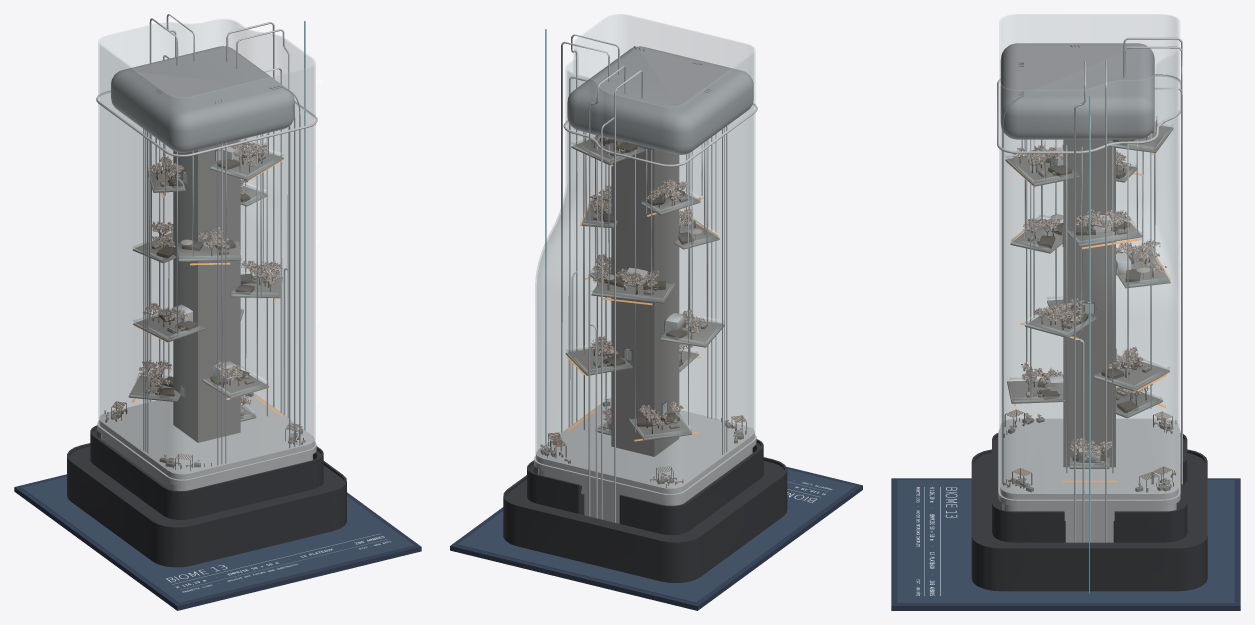
The model's file is projet-02.glb.
3 views of the same model, side by side, from view 1: azimuth 30°, elevation 25°; view 2: azimuth 150°, elevation 25°; view 3: azimuth 270°, elevation 25° (orthographic). The views are drawn at different scales.
Visible parts, largest first — view 1: Cube.002, Cube, Cube.003, Cube.001, socle_liseré, Plateformes, socle_plaque, Suspentes, Cube.005, Garde_corps, Jardinieres, Cube.006 (+12 smaller); view 2: Cube.002, Cube, Cube.003, Cube.001, socle_liseré, Plateformes, socle_plaque, Suspentes, Cube.006, Cube.005, Garde_corps, Jardinieres (+2 smaller); view 3: Cube.002, Cube, socle_liseré, Cube.001, Cube.003, Plateformes, Suspentes, socle_plaque, Cube.005, Garde_corps, Jardinieres, Cube.006 (+8 smaller).
Part boxes in pixels (x1,y1,x2,y2): Cube.002: (96,19,317,479); Cube: (67,393,346,567); Cube.003: (173,140,240,442); Cube.001: (111,46,294,152); socle_liseré: (22,476,413,602); Plateformes: (128,152,283,421); socle_plaque: (14,474,421,610); Suspentes: (147,132,269,416); Cube.005: (226,22,289,417); Garde_corps: (129,145,283,419); Jardinieres: (156,147,255,418); Cube.006: (149,14,195,401); Cube.002: (535,14,757,494); Cube: (503,398,787,582); Cube.003: (611,144,679,456); Cube.001: (567,46,753,154); socle_liseré: (457,469,855,602); Plateformes: (565,137,724,440); socle_plaque: (450,466,862,610); Suspentes: (583,131,707,432); Cube.006: (588,66,643,522); Cube.005: (561,34,619,432); Garde_corps: (566,134,723,438); Jardinieres: (596,135,694,431); Cube.002: (997,14,1180,499); Cube: (971,418,1207,591); socle_liseré: (897,480,1234,603); Cube.001: (1000,43,1154,139); Cube.003: (1063,139,1115,467); Plateformes: (1005,125,1173,468); Suspentes: (1021,116,1157,473); socle_plaque: (891,478,1240,610); Cube.005: (1074,61,1106,542); Garde_corps: (1005,121,1173,466); Jardinieres: (1037,139,1141,461); Cube.006: (1123,37,1182,484).
Size of the model in its own units: 0.1102 by 0.202 by 0.1274.
Materials: 26 (3 with a texture image).
